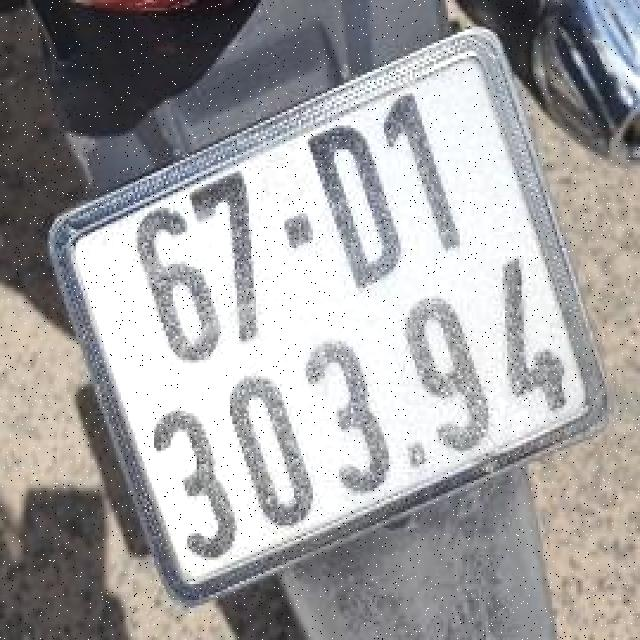0: (211, 350, 326, 551)
1: (375, 75, 481, 265)
3: (138, 388, 250, 576), (291, 327, 403, 505)
4: (479, 240, 590, 436)
6: (119, 190, 237, 382)
7: (182, 160, 278, 359)
9: (394, 281, 506, 464)
D: (296, 103, 421, 300)
